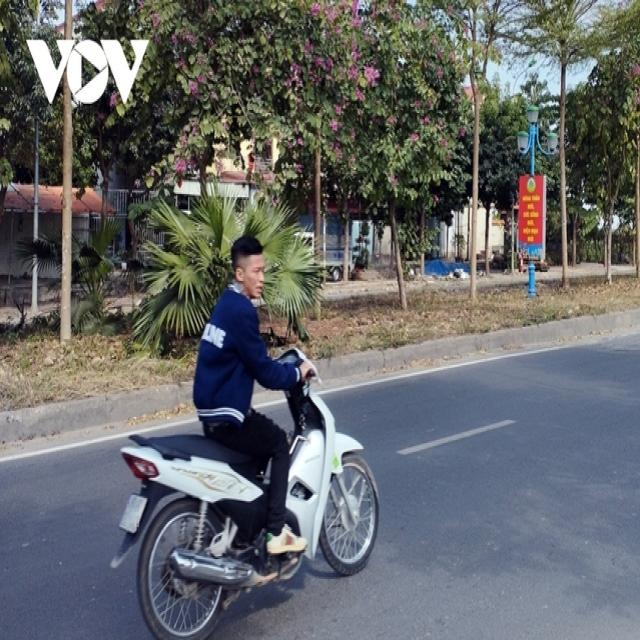no_helmet: (224, 223, 274, 309)
